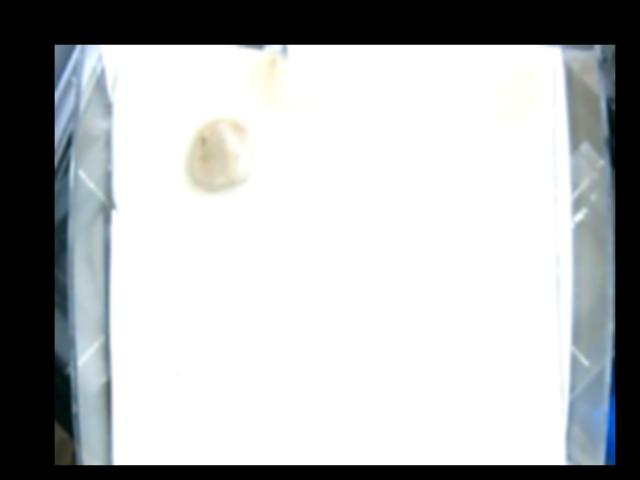Pebble: (187, 117, 252, 187)
